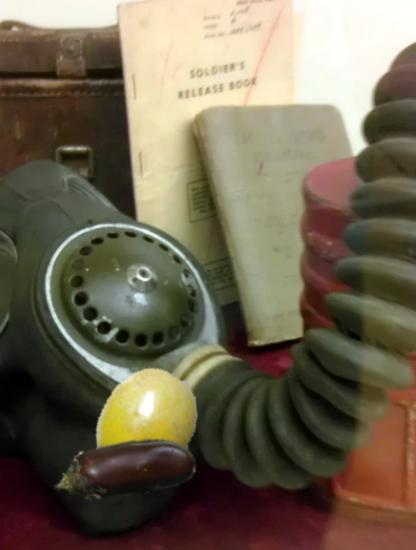Eggplant: (51, 396, 200, 545)
Maracuja: (88, 366, 206, 484)
